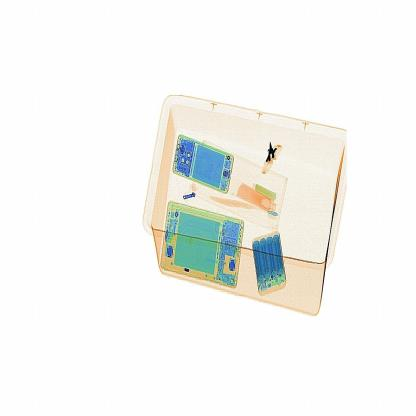gun: (258, 134, 293, 184)
